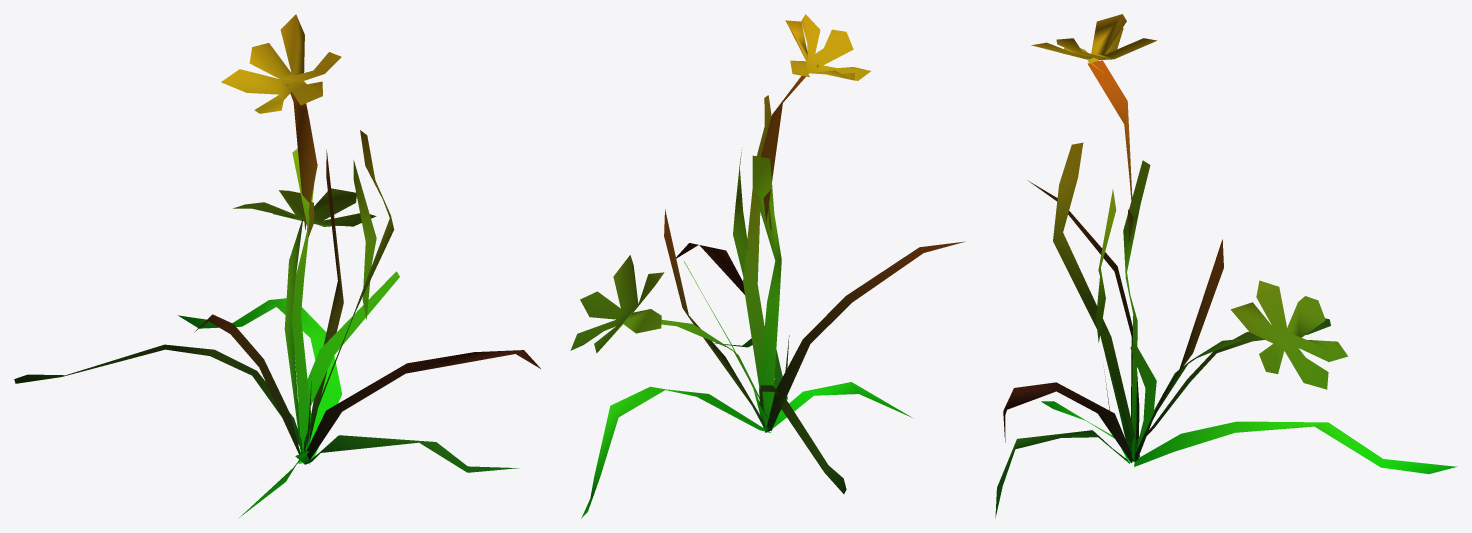
File: SM_OW_Flower_a_LOD2.fbx
The picture shows the model from 3 angles, left to right: view 1: azimuth 30°, elevation 25°; view 2: azimuth 150°, elevation 25°; view 3: azimuth 270°, elevation 25°; orthographic projection. The views are drawn at different scales.
Visible parts, largest first — view 1: SM_OW_Flower_a_LOD2; view 2: SM_OW_Flower_a_LOD2; view 3: SM_OW_Flower_a_LOD2.
Part boxes in pixels (x1=…): SM_OW_Flower_a_LOD2: x1=14, y1=14, x2=540, y2=517; SM_OW_Flower_a_LOD2: x1=570, y1=14, x2=964, y2=518; SM_OW_Flower_a_LOD2: x1=995, y1=14, x2=1457, y2=518.
Bounding box in the file's own units: 0.2188 × 0.2654 × 0.2511.
